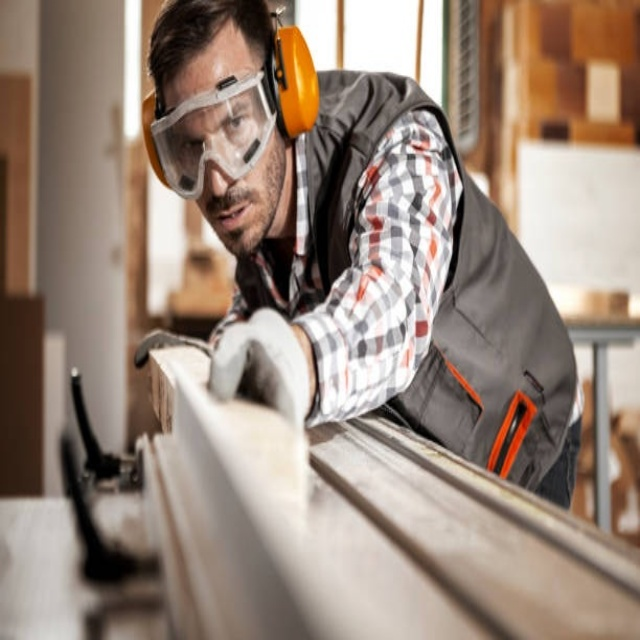Gafas: (149, 62, 280, 201)
Guantes: (210, 306, 311, 427)
Sin_mascara: (204, 188, 268, 254)
